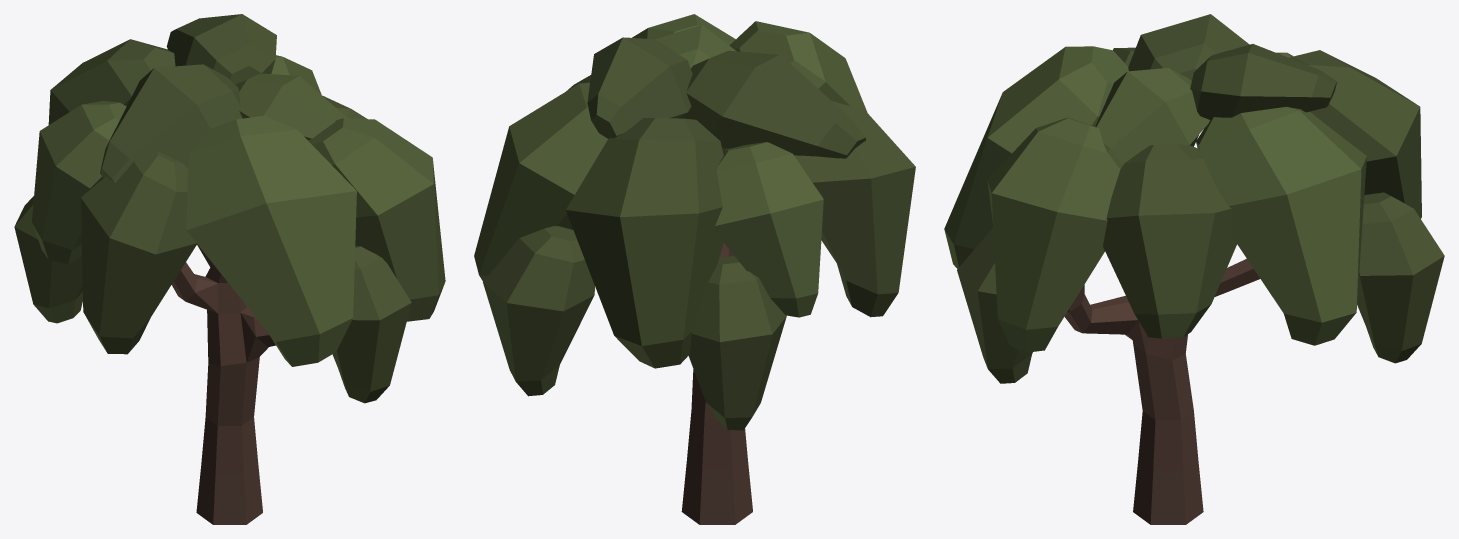
File: Tree_Type6_02.glb
The picture shows the model from 3 angles, left to right: view 1: azimuth 30°, elevation 25°; view 2: azimuth 150°, elevation 25°; view 3: azimuth 270°, elevation 25°; orthographic projection. The views are drawn at different scales.
Visible parts, largest first — view 1: Tree Type6 02 Model; view 2: Tree Type6 02 Model; view 3: Tree Type6 02 Model.
Part boxes in pixels (<box>): Tree Type6 02 Model: <box>14,14,445,524</box>; Tree Type6 02 Model: <box>474,14,915,524</box>; Tree Type6 02 Model: <box>944,14,1444,524</box>.
Bounding box in the file's own units: 2.31 × 3.12 × 2.92.
1 material, 1 textured.
